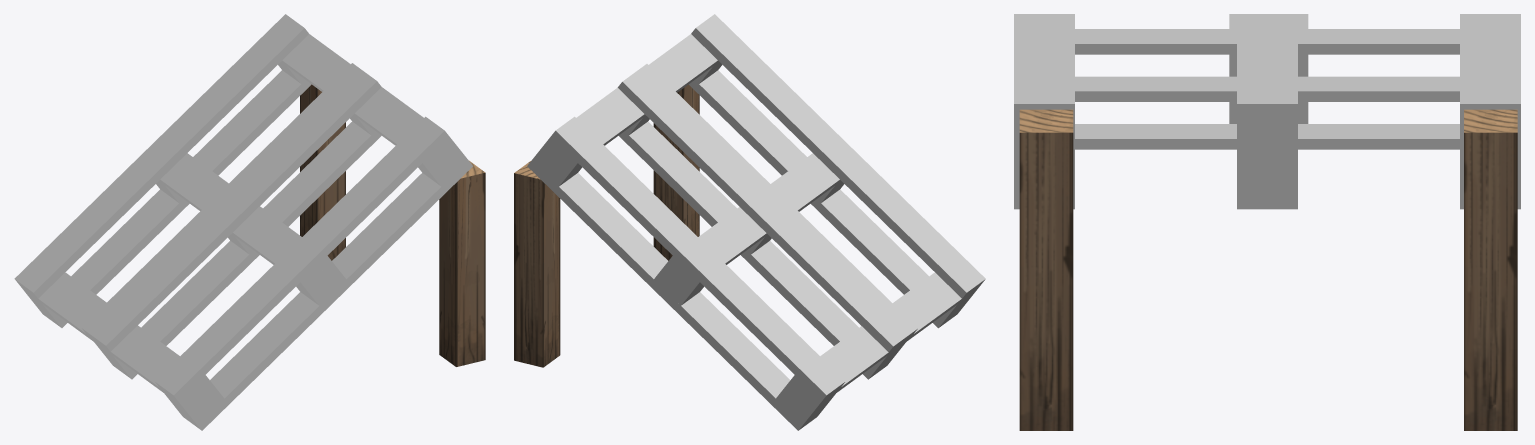
File: trellis05.fbx
The picture shows the model from 3 angles, left to right: view 1: azimuth 30°, elevation 25°; view 2: azimuth 150°, elevation 25°; view 3: azimuth 270°, elevation 25°; orthographic projection. The views are drawn at different scales.
Visible parts, largest first — view 1: trellis05; view 2: trellis05; view 3: trellis05.
Boxes of the visible parts, bbox=[...] form: trellis05: bbox=[14, 14, 485, 430]; trellis05: bbox=[514, 14, 985, 430]; trellis05: bbox=[1014, 14, 1520, 430].
Bounding box in the file's own units: 114 × 83.57 × 100.
